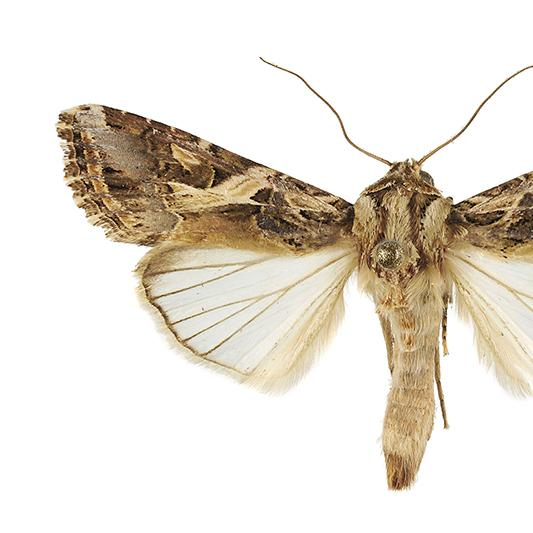Spodoptera litura: (56, 56, 533, 491)
